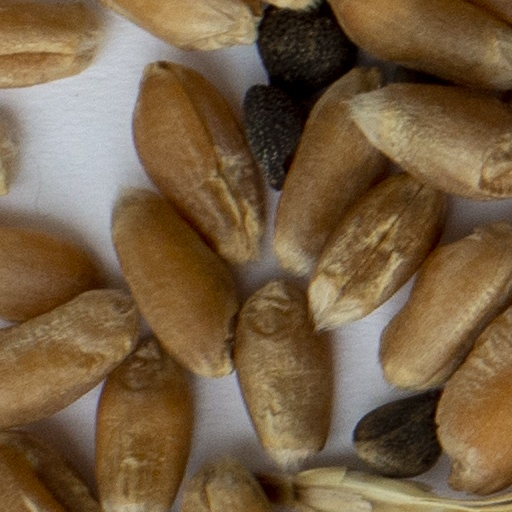Convolvulus-poly: (259, 7, 352, 99), (355, 393, 439, 476), (245, 85, 303, 191)
